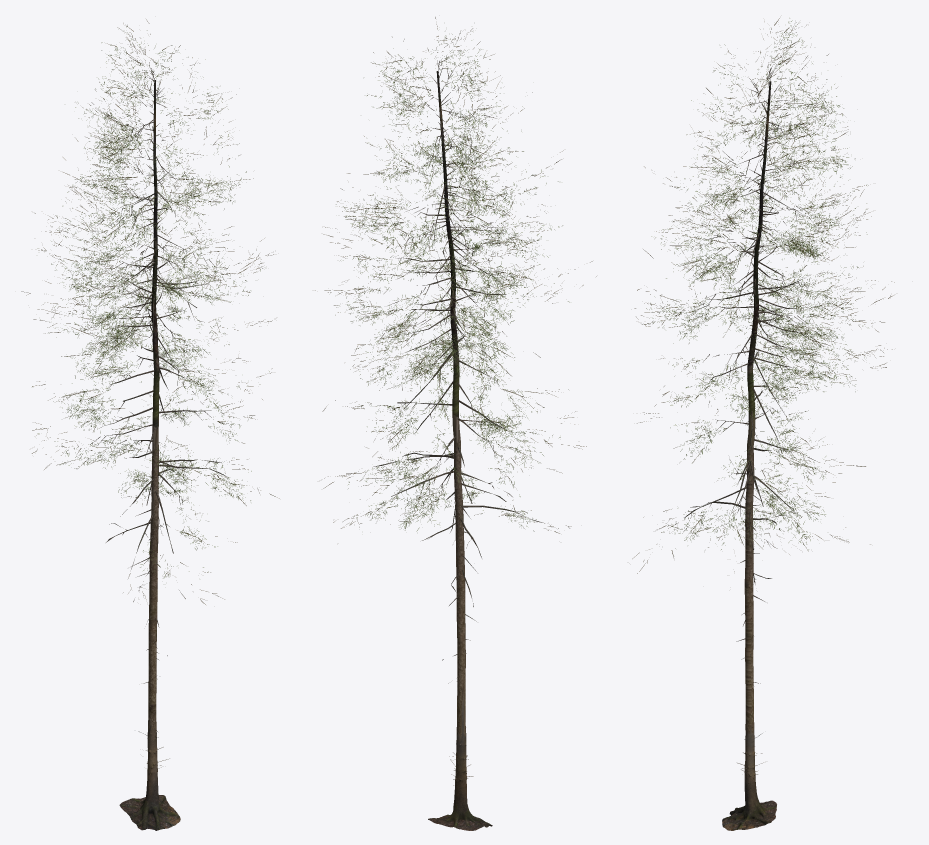
File: fir_tree_01.glb
3 views of the same model, side by side, from view 1: azimuth 30°, elevation 25°; view 2: azimuth 150°, elevation 25°; view 3: azimuth 270°, elevation 25° (orthographic). The views are drawn at different scales.
Visible parts, largest first — view 1: fir_tree_01_a_LOD0; view 2: fir_tree_01_a_LOD0; view 3: fir_tree_01_a_LOD0.
Boxes of the visible parts, x1,y1,x2,y2 form: fir_tree_01_a_LOD0: [21, 19, 279, 830]; fir_tree_01_a_LOD0: [315, 17, 596, 830]; fir_tree_01_a_LOD0: [632, 18, 894, 830].
Bounding box in the file's own units: 6.31 × 18.84 × 6.13.
4 materials, 4 textured.
